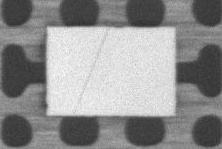DIE_CRACK: (110, 18, 162, 76)
